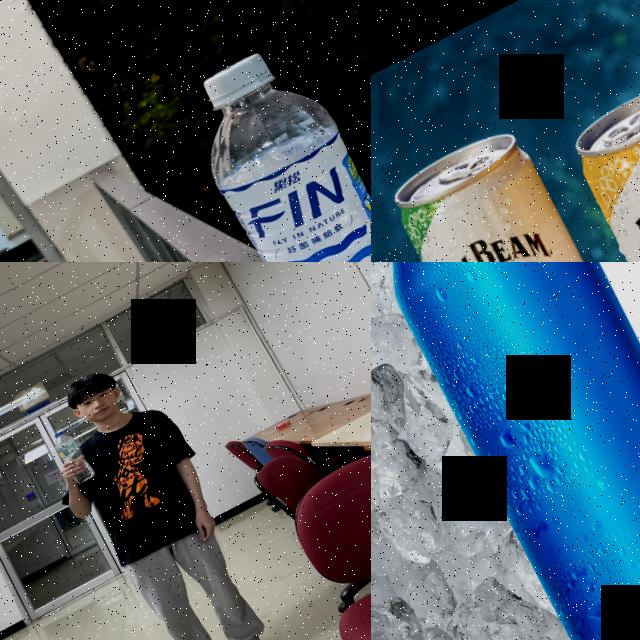bottle: (171, 27, 371, 262), (48, 423, 100, 488)
can: (371, 262, 640, 640), (381, 117, 640, 262), (559, 59, 640, 262)
